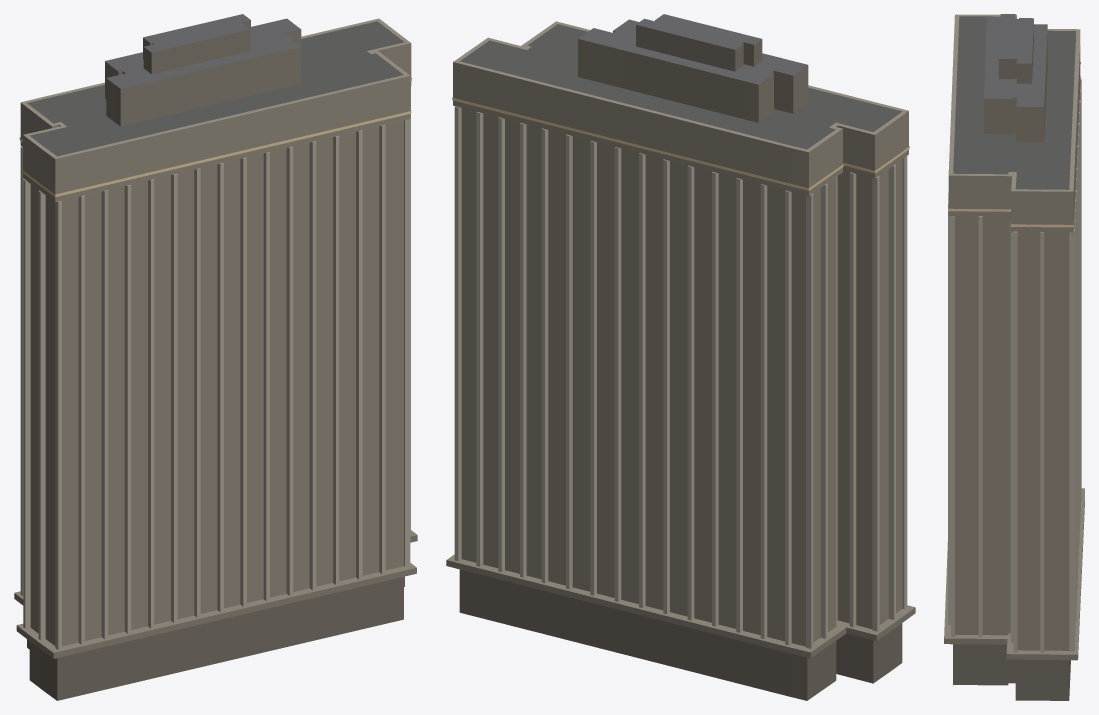
File: peachtree-center-north-tower.glb
3 views of the same model, side by side, from view 1: azimuth 30°, elevation 25°; view 2: azimuth 150°, elevation 25°; view 3: azimuth 270°, elevation 25° (orthographic). The views are drawn at different scales.
Parts seen in each view (by area): view 1: lod0_bld_wall, lod0_lm_stone, lod1_lm_stone, lod0_bld_roof, lod0_lm_glow; view 2: lod0_bld_wall, lod0_lm_stone, lod1_lm_stone, lod0_bld_roof, lod0_lm_glow; view 3: lod0_bld_wall, lod1_lm_stone, lod0_lm_stone, lod0_bld_roof, lod0_lm_glow.
Part boxes in pixels (box(x1,y1,x2,y2)): lod0_bld_wall: box(27, 20, 404, 700); lod0_lm_stone: box(16, 76, 417, 658); lod1_lm_stone: box(14, 18, 417, 658); lod0_bld_roof: box(143, 14, 250, 52); lod0_lm_glow: box(19, 78, 411, 197); lod0_bld_wall: box(459, 20, 902, 700); lod0_lm_stone: box(446, 62, 915, 648); lod1_lm_stone: box(447, 19, 914, 658); lod0_bld_roof: box(636, 14, 761, 49); lod0_lm_glow: box(452, 97, 909, 190); lod0_bld_wall: box(953, 18, 1070, 700); lod1_lm_stone: box(944, 14, 1084, 659); lod0_lm_stone: box(948, 16, 1081, 660); lod0_bld_roof: box(999, 14, 1033, 63); lod0_lm_glow: box(948, 62, 1080, 227).
Size of the model in its own units: 76.73 by 112 by 25.23.
